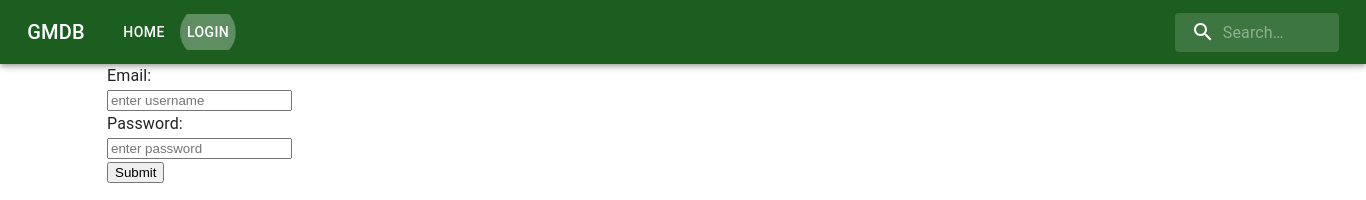
Scenario: user clicks on Login button which shows login form. User can submit login form which will show text 'Logged in › user can type in email and password boxes, then click Submit, then see text saying 'Logged in'
The width and height of the screenshot is (1366, 200).
Type "Jack" into the field labelled "Email:".
click(200, 101); type("Jack")  # box [107, 90, 292, 111]
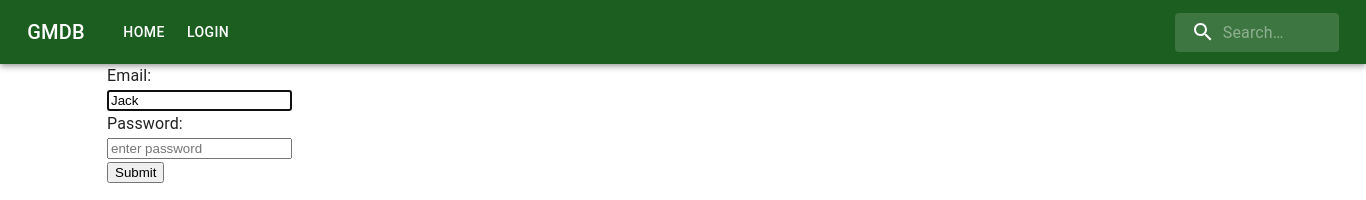
Type "pwd" into the password field labelled "Password:".
click(200, 149); type("pwd")  # box [107, 138, 292, 159]
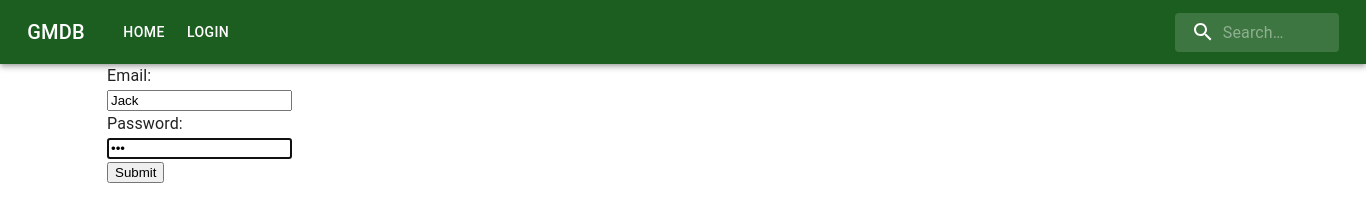
Click the button "Submit".
click(136, 173)  # box [107, 162, 165, 183]
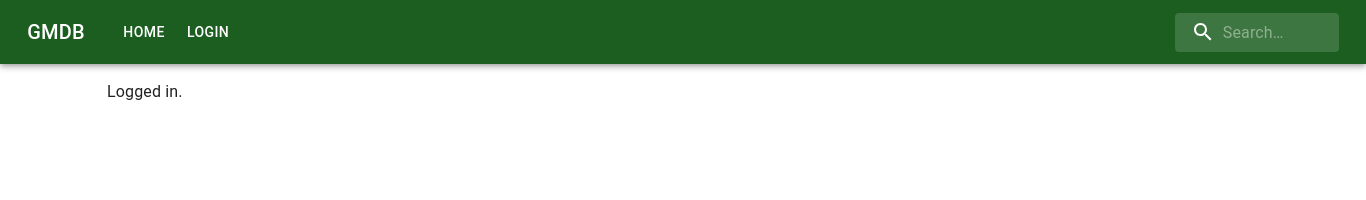
Expected: the text "Logged in." is shown, [107, 82, 183, 101]
Expected: the form is gone
